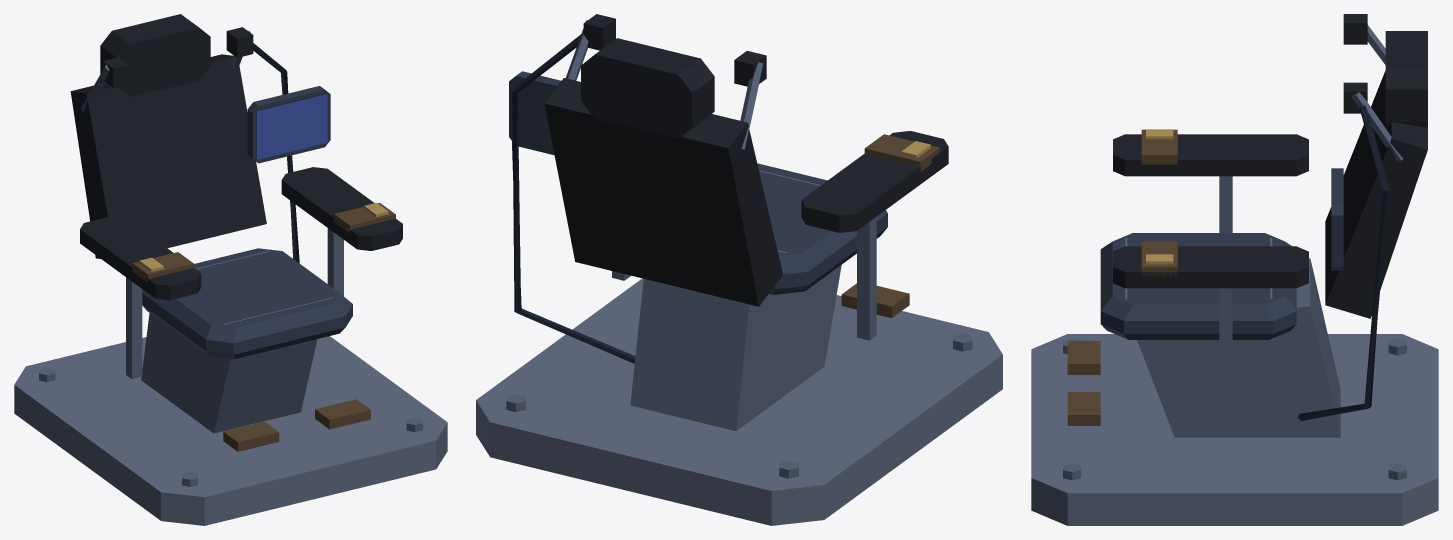
Rendered from res_interrogation_chair.glb.
3 renders of one model, left to right at view 1: azimuth 30°, elevation 25°; view 2: azimuth 150°, elevation 25°; view 3: azimuth 270°, elevation 25°, orthographic. The views are drawn at different scales.
Visible parts, largest first — view 1: bolted_base, arm_pad, anchor_bolt, piped_cushion, ankle_band, print, screen_bezel, neural_lead; view 2: bolted_base, arm_pad, anchor_bolt, piped_cushion, neural_lead, screen_bezel, ankle_band; view 3: bolted_base, arm_pad, anchor_bolt, piped_cushion, ankle_band, neural_lead, screen_bezel, brass_buckle.
Boxes of the visible parts, box(x1,y1,x2,y2) form: bolted_base: box(14, 251, 447, 525); arm_pad: box(70, 14, 402, 300); anchor_bolt: box(39, 31, 422, 486); piped_cushion: box(142, 248, 352, 358); ankle_band: box(132, 203, 395, 451); print: box(256, 94, 327, 159); screen_bezel: box(247, 86, 330, 163); neural_lead: box(253, 43, 327, 263); bolted_base: box(476, 170, 1002, 525); arm_pad: box(544, 14, 948, 306); anchor_bolt: box(506, 20, 972, 478); piped_cushion: box(757, 163, 887, 294); neural_lead: box(510, 33, 635, 363); screen_bezel: box(509, 71, 561, 155); ankle_band: box(841, 134, 939, 318); bolted_base: box(1031, 238, 1438, 525); arm_pad: box(1113, 14, 1427, 318); anchor_bolt: box(1063, 25, 1406, 480); piped_cushion: box(1100, 233, 1296, 339); ankle_band: box(1067, 129, 1177, 425); neural_lead: box(1298, 104, 1389, 420); screen_bezel: box(1331, 168, 1343, 270); brass_buckle: box(1146, 129, 1173, 264).
Bounding box in the file's own units: 1.25 × 1.45 × 1.35.
